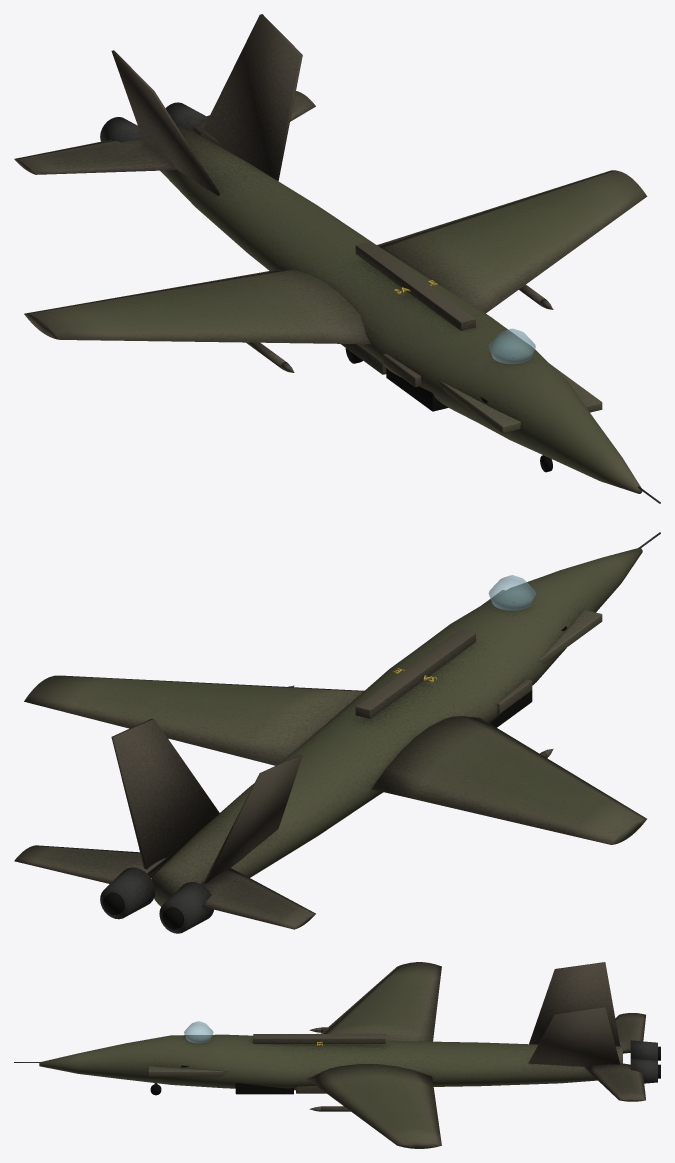
Rendered from sphere-fighter.glb.
3 views of the same model, one above another, from view 1: azimuth 30°, elevation 25°; view 2: azimuth 150°, elevation 25°; view 3: azimuth 270°, elevation 25° (orthographic). The views are drawn at different scales.
Parts seen in each view (by area): view 1: fuselage, canopy; view 2: fuselage, canopy; view 3: fuselage, canopy.
Boxes of the visible parts, bbox=[...] form: fuselage: bbox=[14, 14, 660, 503]; canopy: bbox=[489, 328, 535, 364]; fuselage: bbox=[14, 532, 660, 933]; canopy: bbox=[488, 575, 535, 610]; fuselage: bbox=[14, 962, 660, 1148]; canopy: bbox=[184, 1021, 213, 1043].
Bounding box in the file's own units: 10.9 × 3.15 × 16.63.
2 materials, 1 textured.
